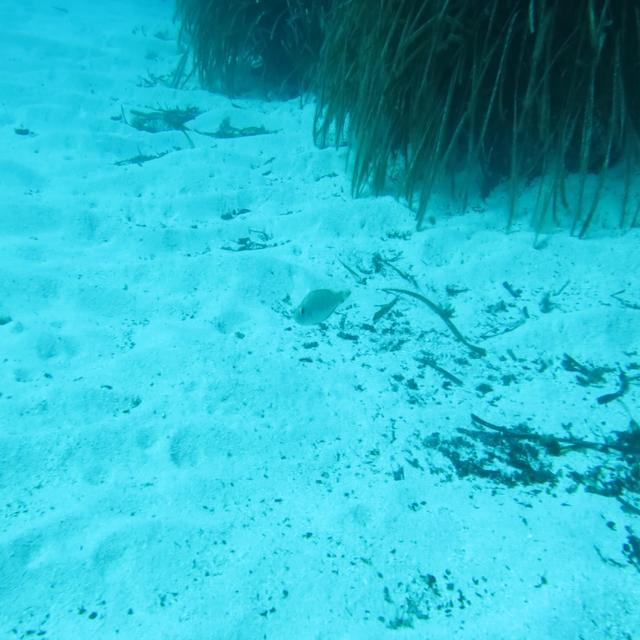BN: (290, 283, 356, 332)
vegetation: (177, 0, 640, 186), (378, 408, 640, 515)
